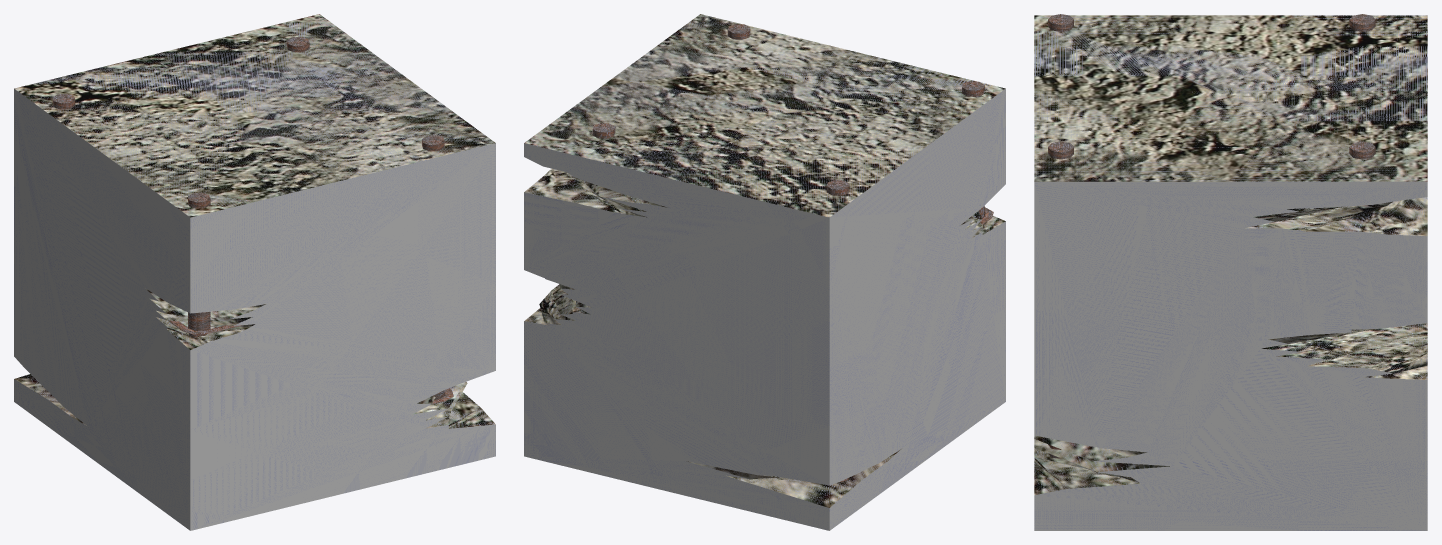
3 renders of one model, left to right at view 1: azimuth 30°, elevation 25°; view 2: azimuth 150°, elevation 25°; view 3: azimuth 270°, elevation 25°, orthographic. The views are drawn at different scales.
Parts seen in each view (by area): view 1: C-600sqr (×4), Rebar01; view 2: C-600sqr (×5); view 3: C-600sqr (×5), Rebar01.
Boxes of the visible parts, bbox=[...] form: C-600sqr (×4): bbox=[14, 14, 495, 530]; Rebar01: bbox=[188, 192, 210, 337]; C-600sqr (×5): bbox=[524, 14, 1005, 530]; C-600sqr (×5): bbox=[1034, 15, 1427, 530]; Rebar01: bbox=[1048, 141, 1073, 458].
Bounding box in the file's own units: 40.16 × 40.16 × 40.16.
